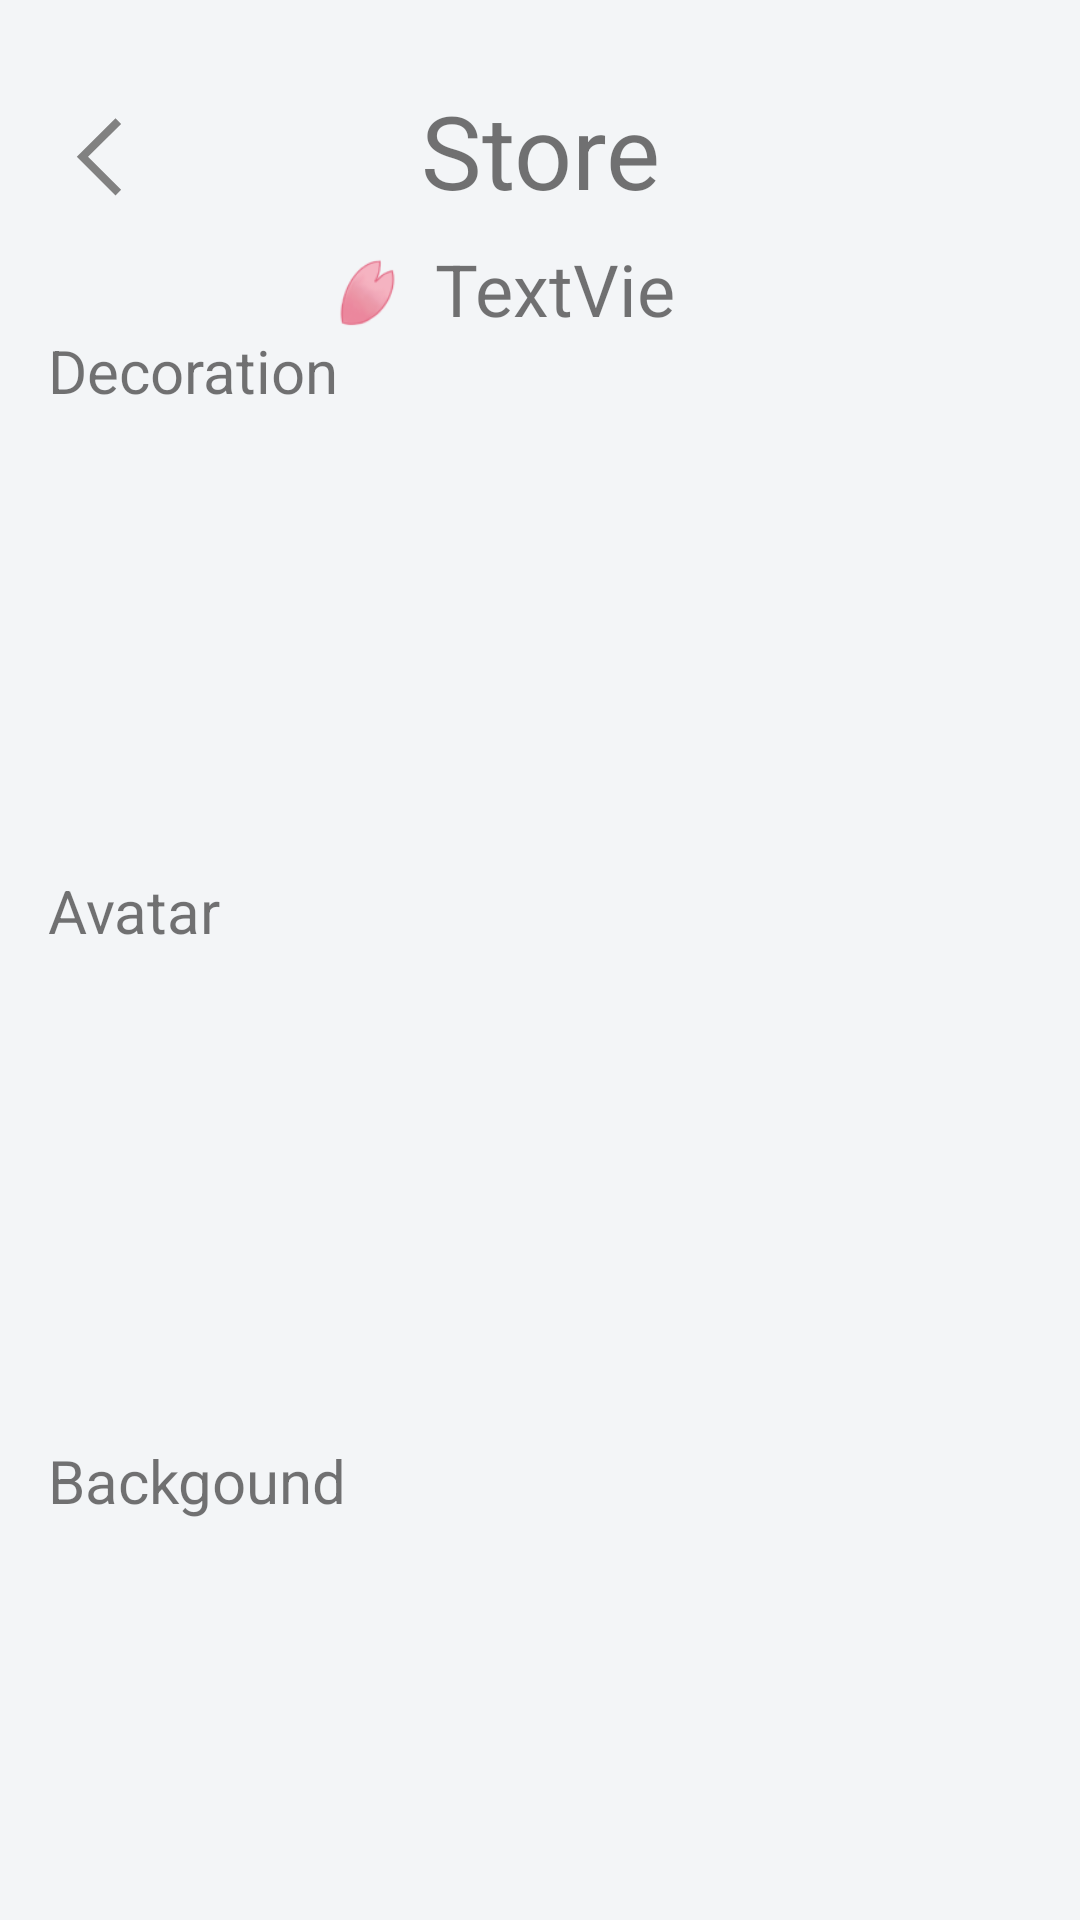

Locate icon controls on the screen. Image size 1080x1920, boxes as (x1,y1,x2,y2).
petal: (340,260,395,325)
